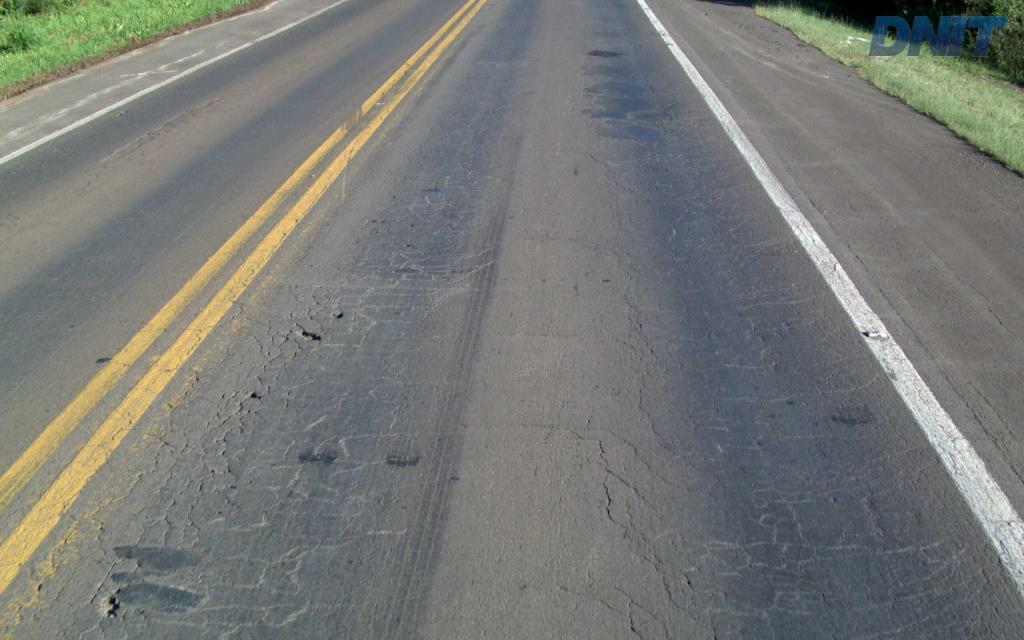pothole: (98, 590, 123, 618), (296, 326, 323, 340), (245, 389, 265, 400), (330, 305, 346, 318)
